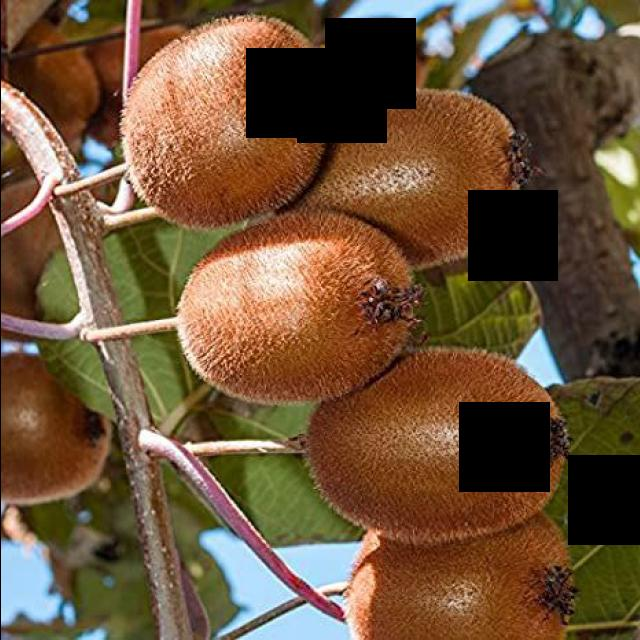kiwi: (166, 204, 428, 416), (302, 350, 568, 556), (286, 81, 538, 297), (118, 12, 346, 232), (334, 498, 582, 640), (2, 350, 118, 522), (1, 2, 105, 187), (3, 173, 76, 347)
